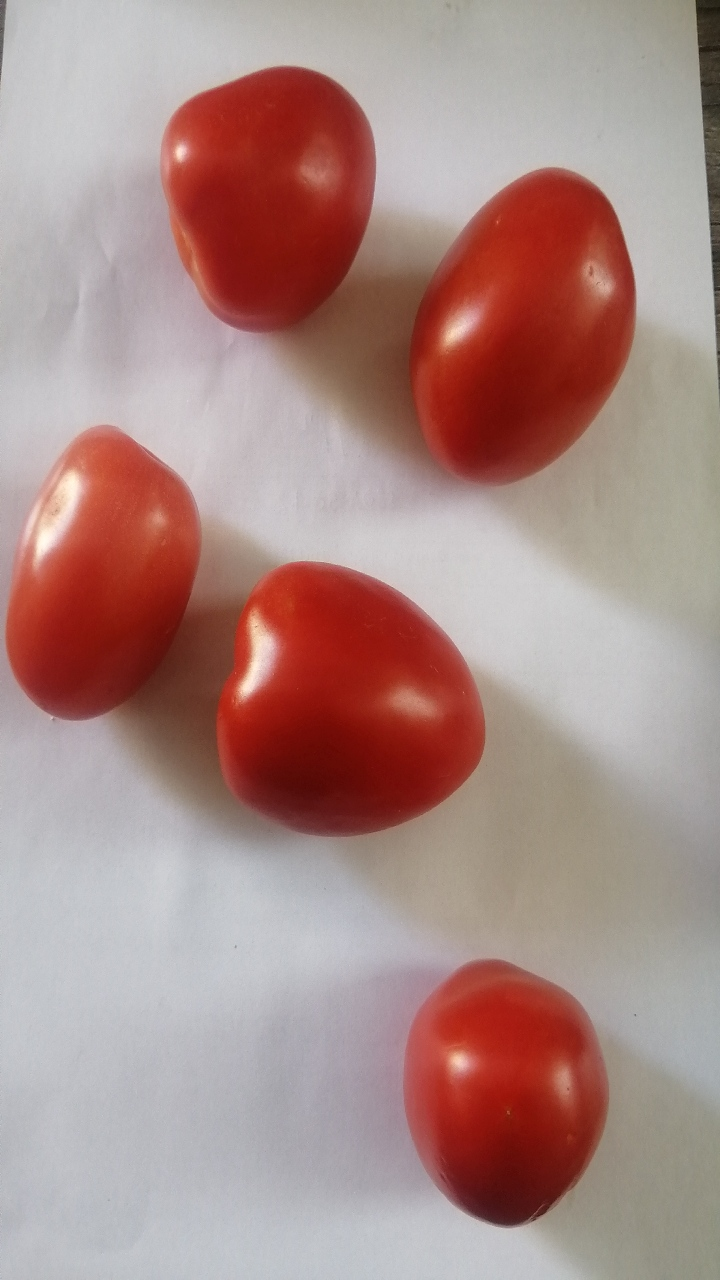tomateRojo: (400, 148, 675, 515), (214, 545, 503, 862), (361, 943, 634, 1243), (138, 46, 381, 363), (6, 411, 208, 751)
